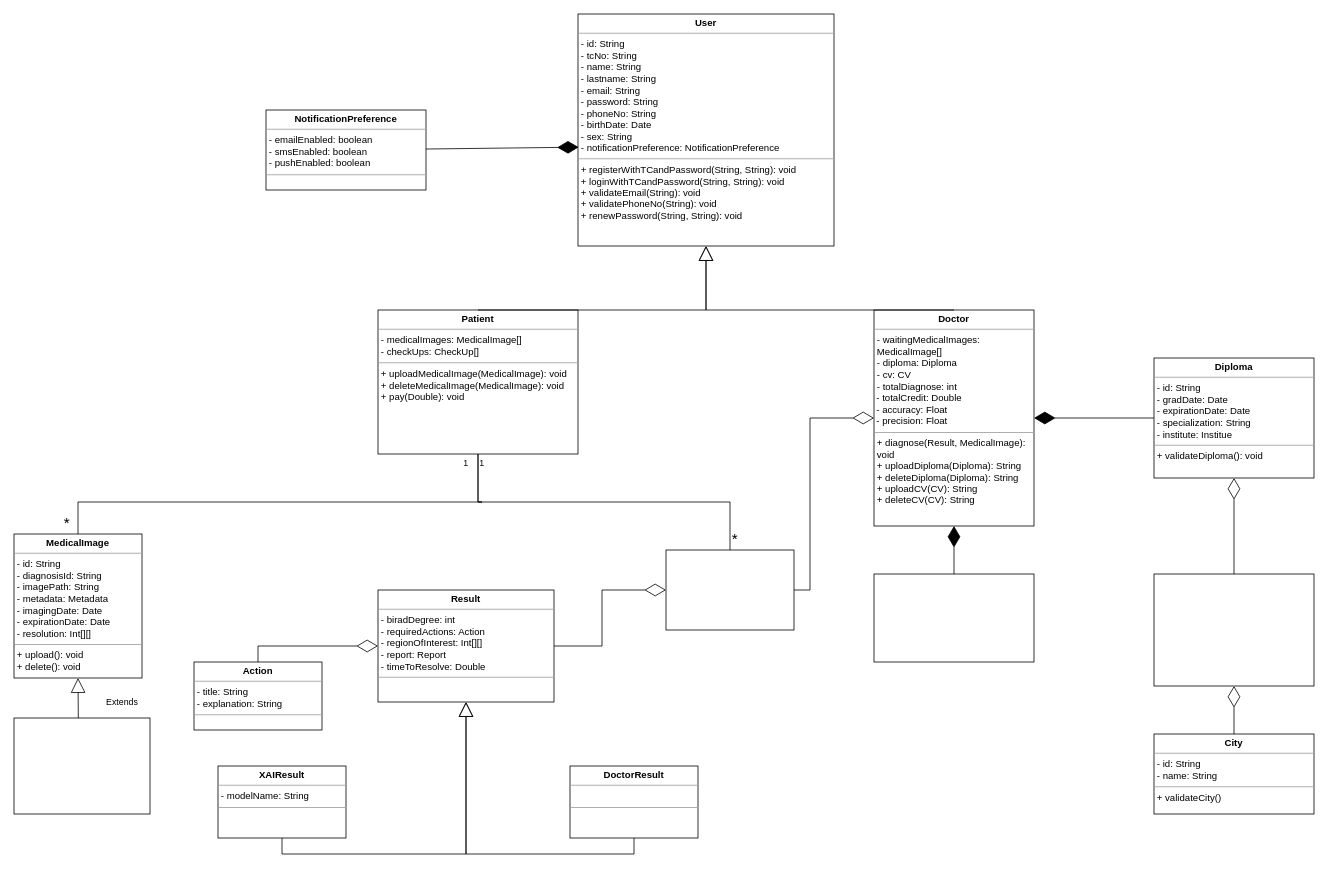
This 1328x882 diagram has some shape labels left out. The centre of each missing label's shape, as x and y in pixels:
CheckUp - result: Result[] - doctor: Doctor: (729,589)
CV - id: String - experience: String - uploadDate: Date + validateCV(): void: (953,617)
Institute - id: String - name: Date - city: City + validateInstitute(): (1233,629)
Mammogram - ccR: Metadata - ccR: Metadata - mloL: Metadata - mloR: Metadata: (81,765)
